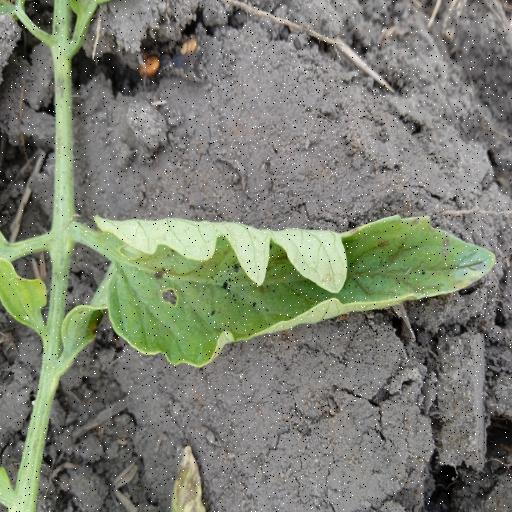Tomato_Mildiou: (86, 202, 510, 377)
